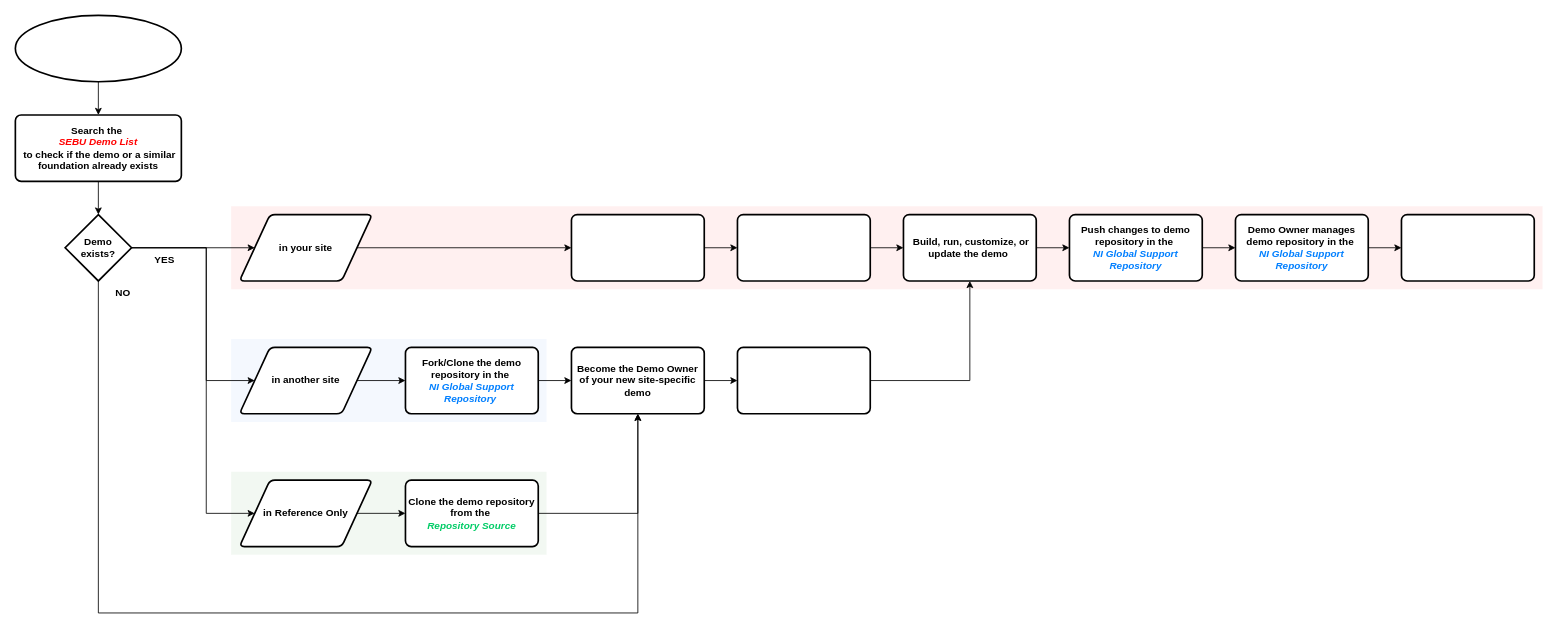
Image size: 1556x634. Some labels were removed from this diagram. Here are the shapes that lost their labels. From the top down, the centre of each, then its label:
At pixel 98 48: "I want to create or setup a demo for my specific site".
At pixel 637 247: "Collaborate with the Demo Owner".
At pixel 803 247: "Reuse the site-specific demo repository in the NI Global Support Repository".
At pixel 1467 247: "Demo Owner updates the SEBU Demo List".
At pixel 803 380: "Create a new site-specific demo repository in the NI Global Support Repository".
